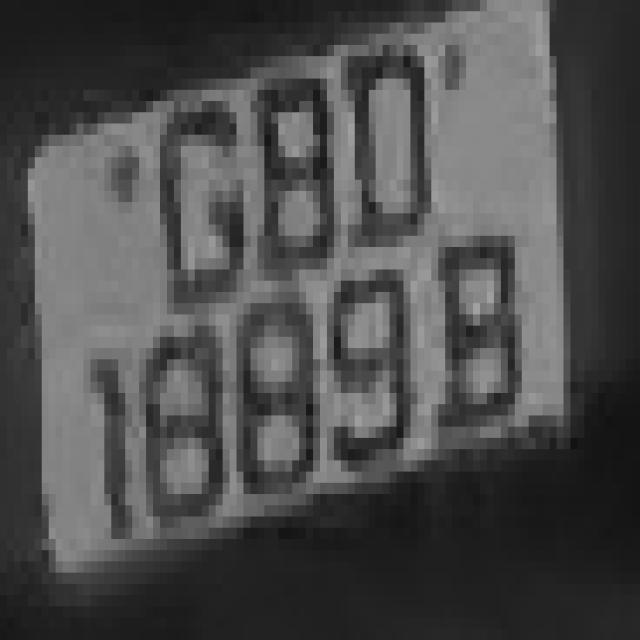1: (77, 304, 132, 562)
8: (230, 202, 327, 539), (132, 292, 223, 561)
9: (327, 225, 417, 494)
B: (229, 56, 348, 326), (424, 224, 529, 472)
D: (341, 45, 438, 247)
G: (139, 67, 237, 348)
